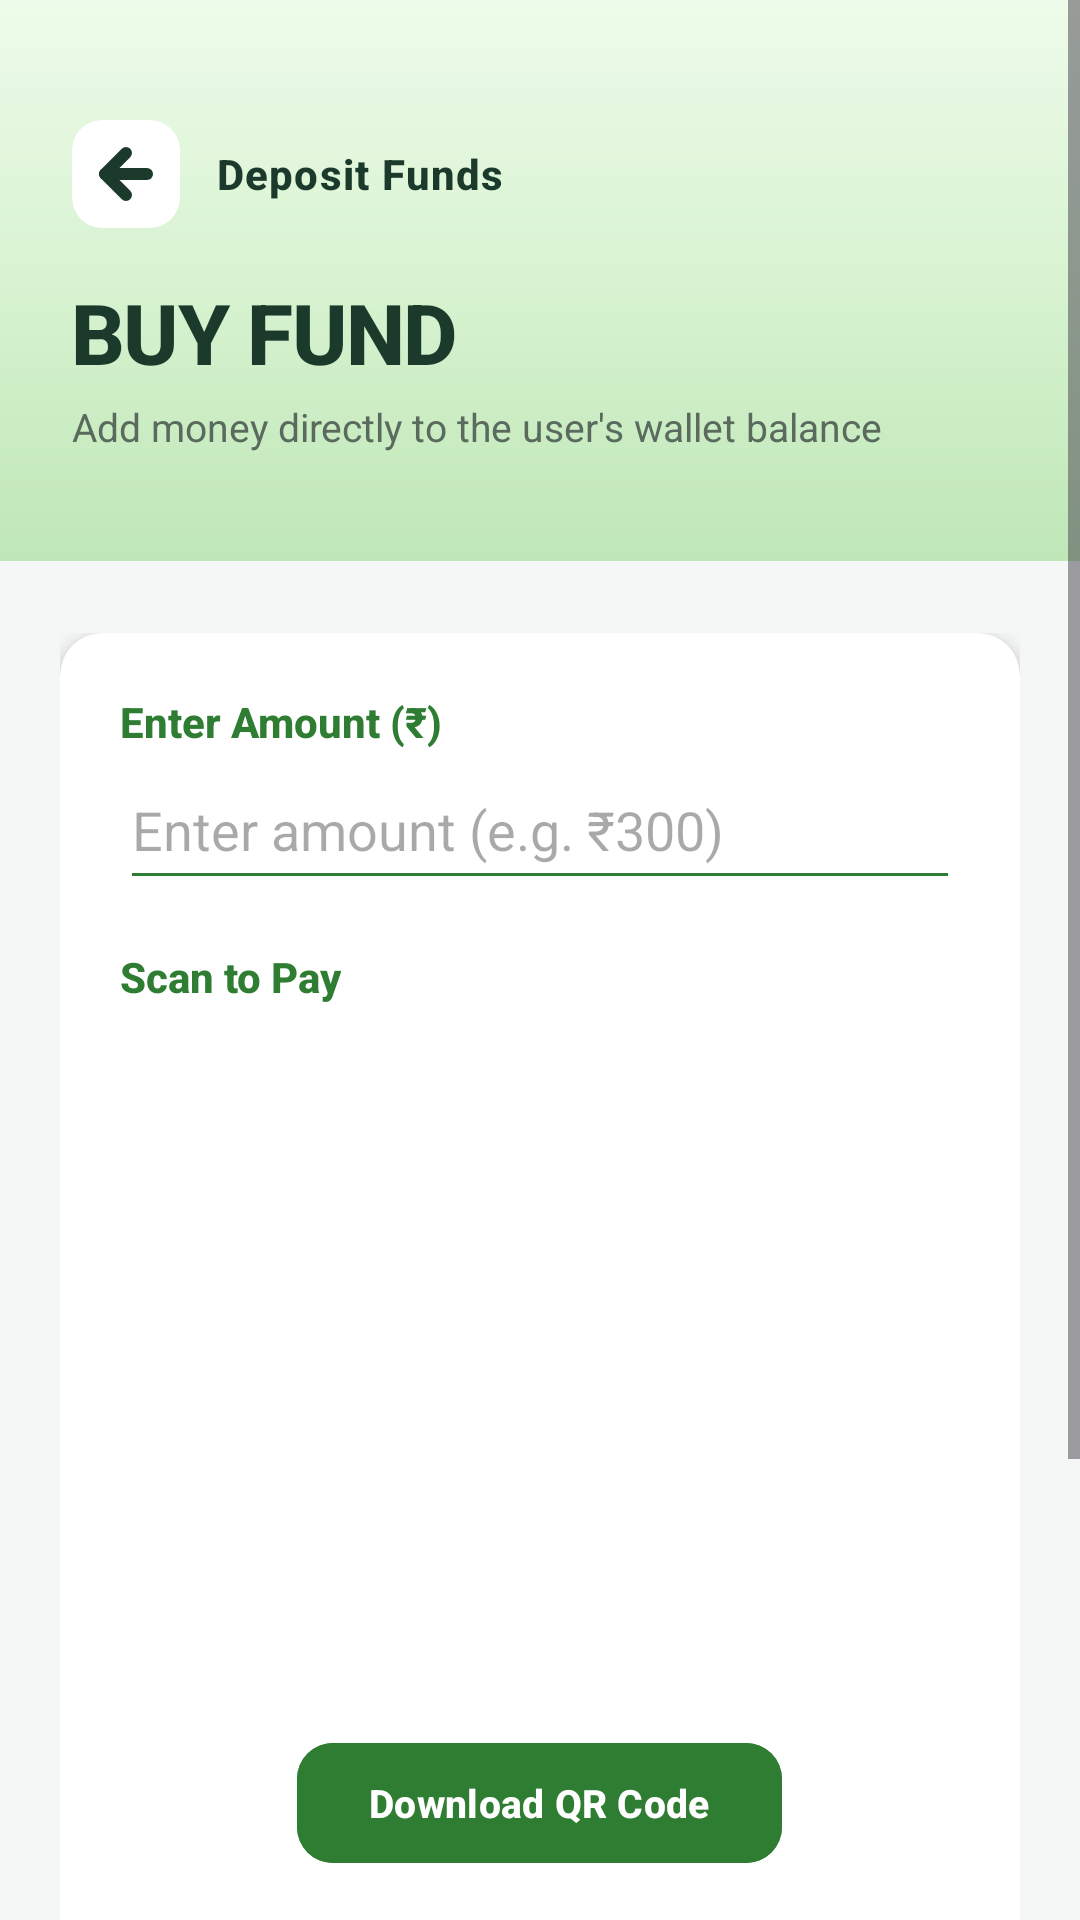

Point at icon controls on the screen. Image size 1080w x 1920h, points as (x,y).
Go Back: (126,174)
